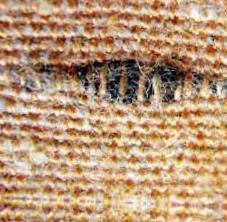slub: (0, 56, 227, 108)
